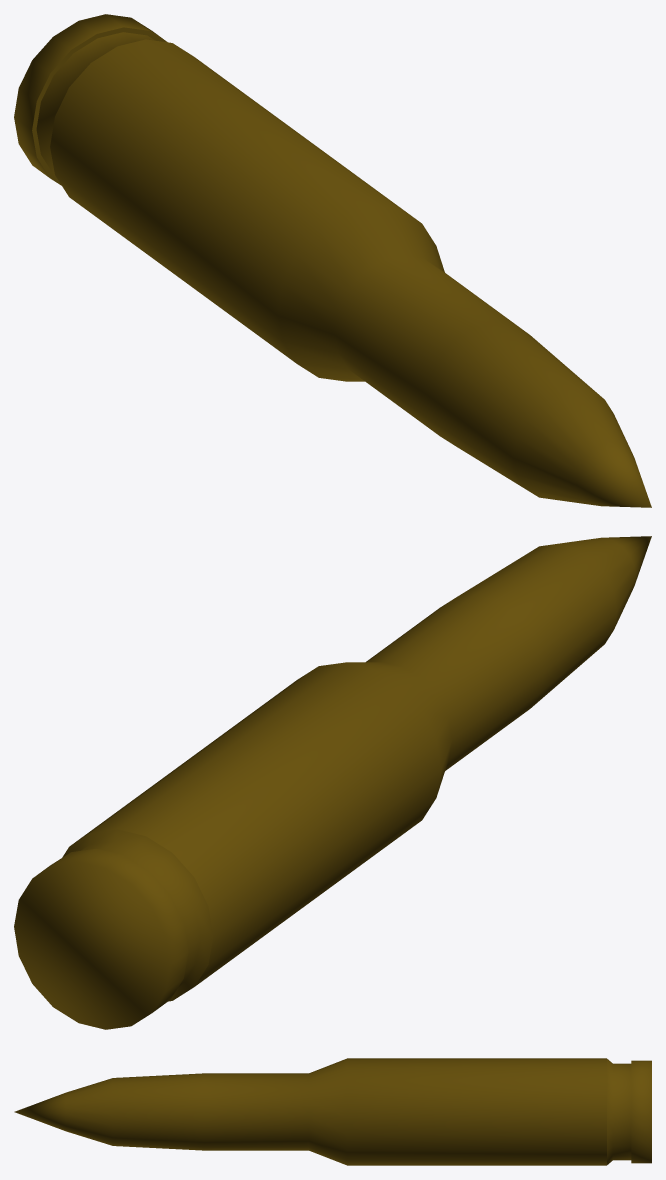
The model's file is Bullet.FBX.
3 views of the same model, one above another, from view 1: azimuth 30°, elevation 25°; view 2: azimuth 150°, elevation 25°; view 3: azimuth 270°, elevation 25° (orthographic). The views are drawn at different scales.
Parts seen in each view (by area): view 1: Bullet; view 2: Bullet; view 3: Bullet.
Boxes of the visible parts, x1=… form: Bullet: x1=14, y1=14, x2=651, y2=507; Bullet: x1=14, y1=536, x2=651, y2=1029; Bullet: x1=14, y1=1058, x2=651, y2=1165.
Bounding box in the file's own units: 0.00466 × 0.00459 × 0.0277.
